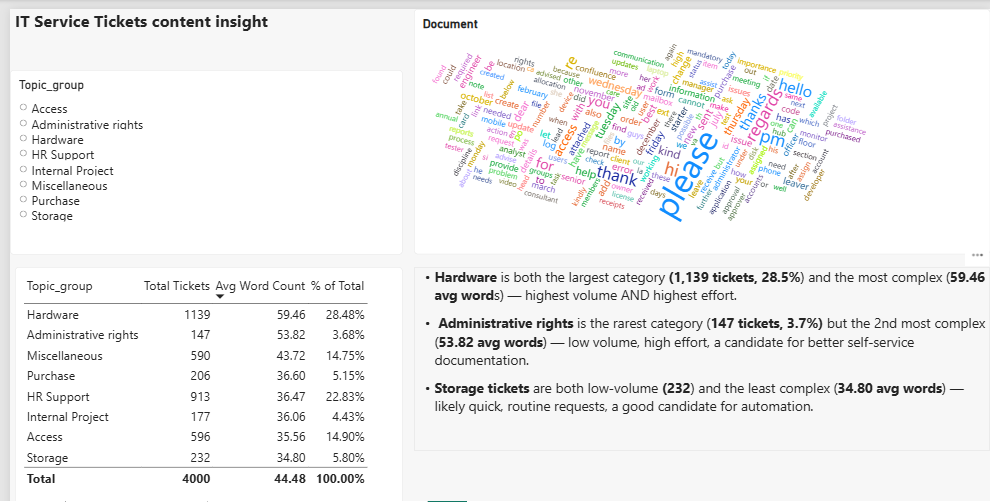

The page's visual inventory and layout, read from the dashboard file:
{"tool":"powerbi","page":{"name":"IT Service Tickets content insight","canvas":[1920,1080],"ordinal":1},"visuals":[{"type":"WordCloud1447959067750","fields":{"Category":["it_tickets_sample_4000.Document"]},"box":[791.5,0,1129.8,480.9],"z":0},{"type":"tableEx","fields":{"Values":["it_tickets_sample_4000.Topic_group","00_Measures.Total Tickets","00_Measures.Avg Word Count","00_Measures.% of Total"]},"box":[10.6,506.4,759.6,574.5],"z":1},{"type":"listSlicer","fields":{"Values":["it_tickets_sample_4000.Topic_group"]},"box":[0,119.1,770.2,361.7],"z":2},{"type":"textbox","box":[10,0,516,95],"z":3},{"type":"textbox","box":[791.5,506.4,1129.8,359.6],"z":4}]}

Visuals, with their boxes on the page's 1920x1080 design canvas (x1, y1, x2, y2). These are canvas units, not pixel positions in the 990x502 screenshot, which may show the page scaled, cropped or inside an application window:
WordCloud1447959067750 - it_tickets_sample_4000.Document: bbox=(792, 0, 1921, 481)
tableEx - it_tickets_sample_4000.Topic_group x 00_Measures.Total Tickets: bbox=(11, 506, 770, 1081)
listSlicer - it_tickets_sample_4000.Topic_group: bbox=(0, 119, 770, 481)
textbox: bbox=(10, 0, 526, 95)
textbox: bbox=(792, 506, 1921, 866)
